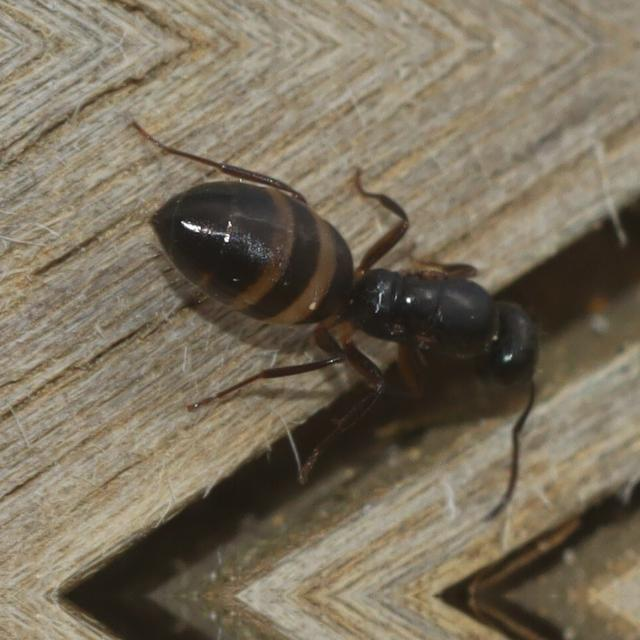Colobopsis: (127, 138, 597, 448)
